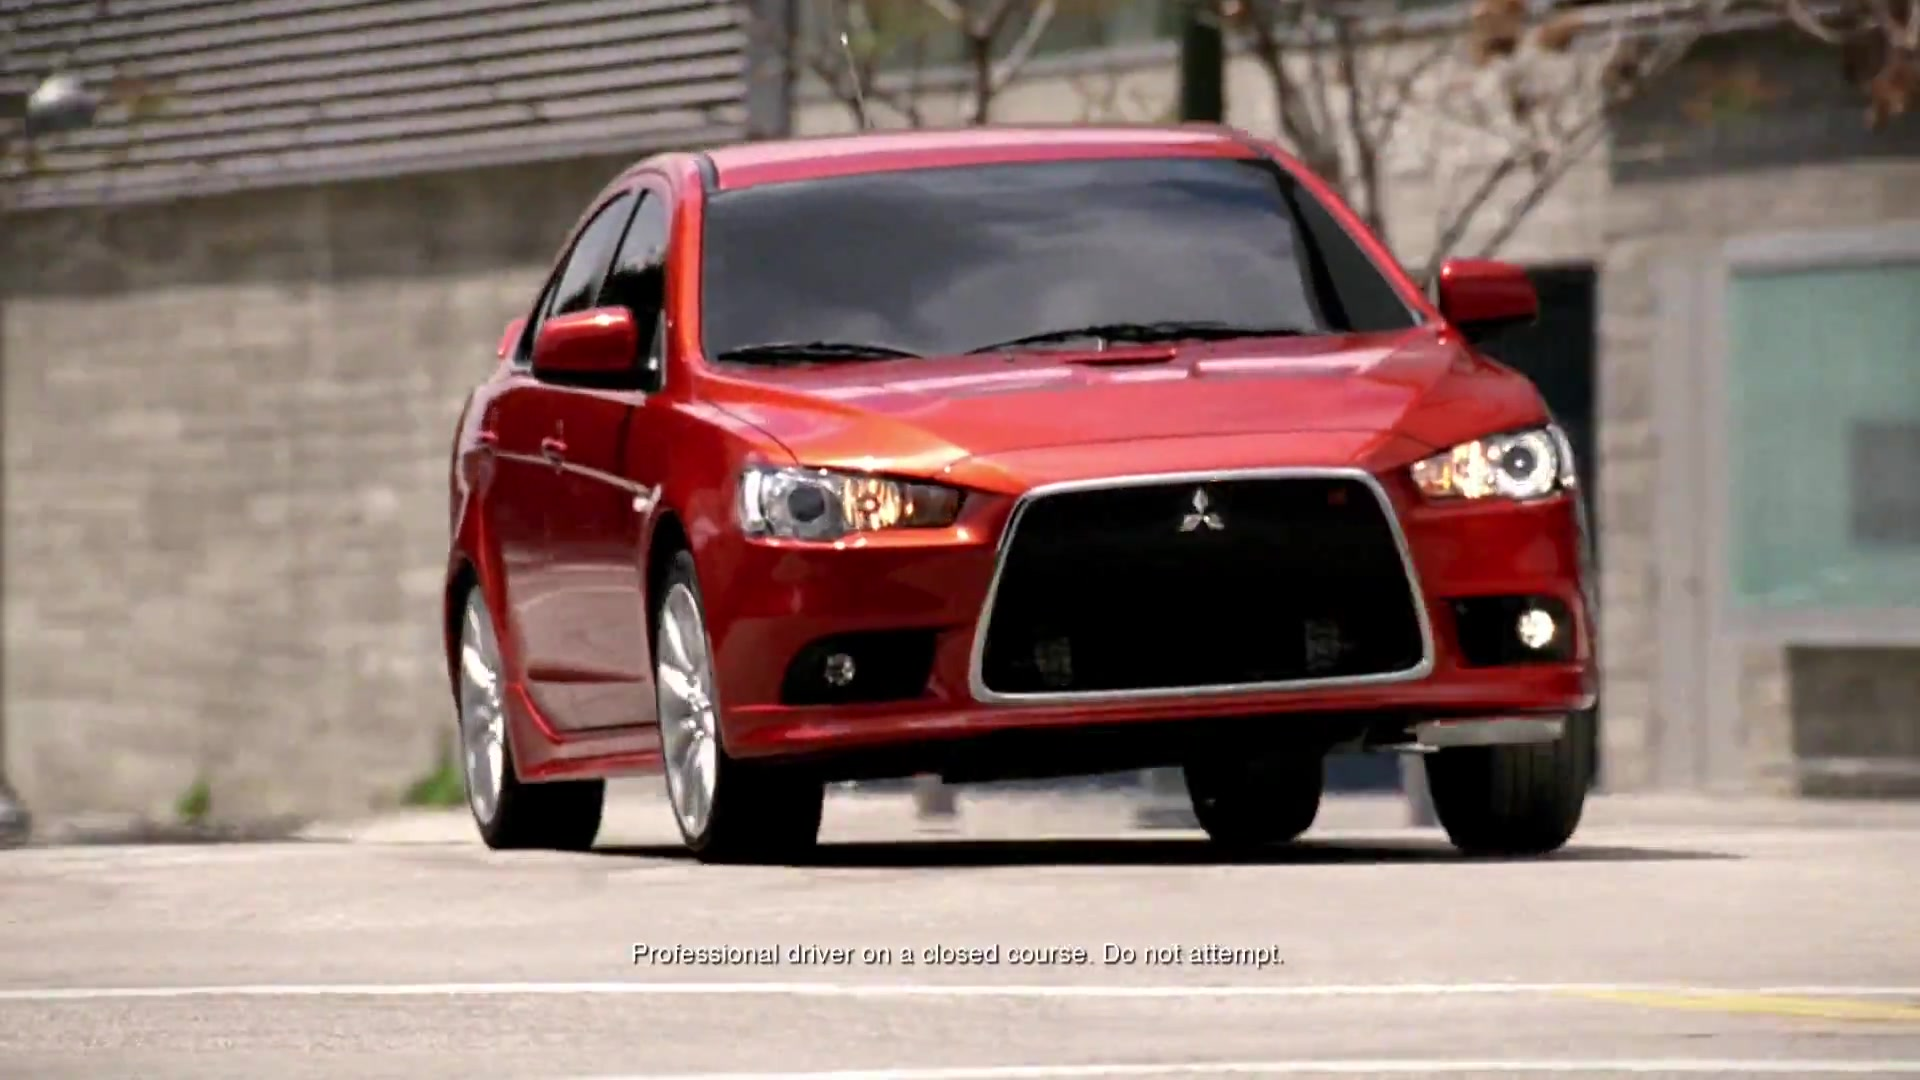car: (433, 115, 1606, 861)
